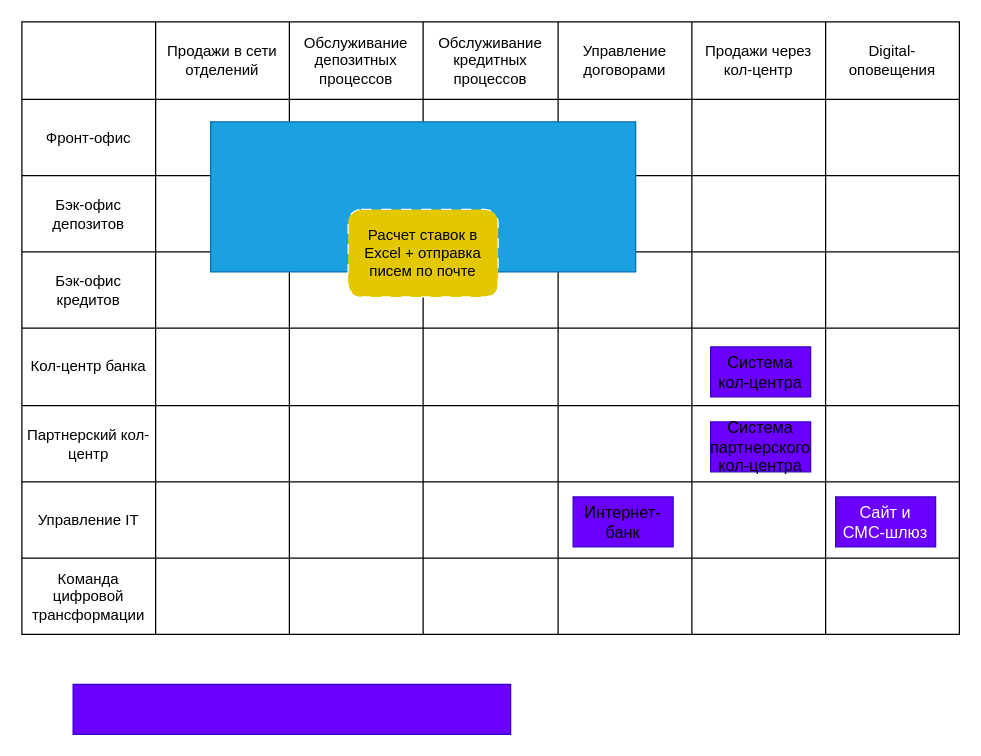
Image size: 981x756. Some labels were removed from this diagram. The box of each missing label's shape, as (x1, y1, x2, y2) in pixels:
АБС: (209, 121, 636, 272)
Интернет-банк имеет прямое подключение к БД АБС: (72, 683, 511, 734)
